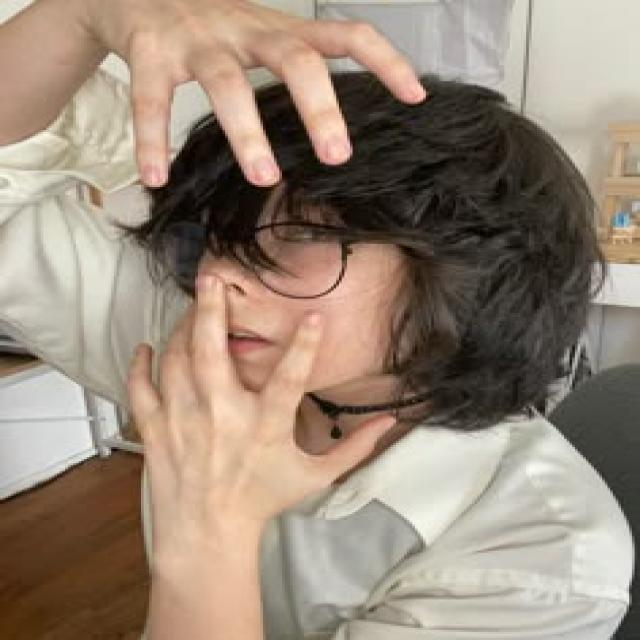7_mano_rostro: (142, 276, 394, 540)
